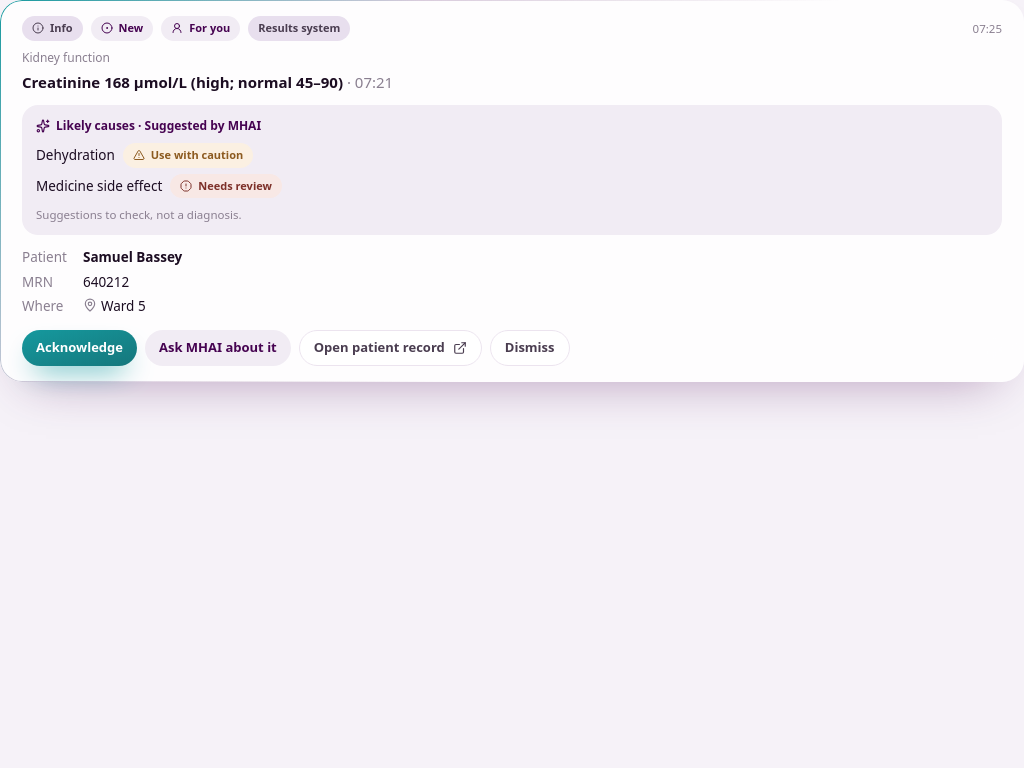
it: AlertCard › says in the dialog when someone else handled it meanwhile (Review Focus 1)
Click the button "Dismiss". click: (530, 348)
box: [490,330,570,366]
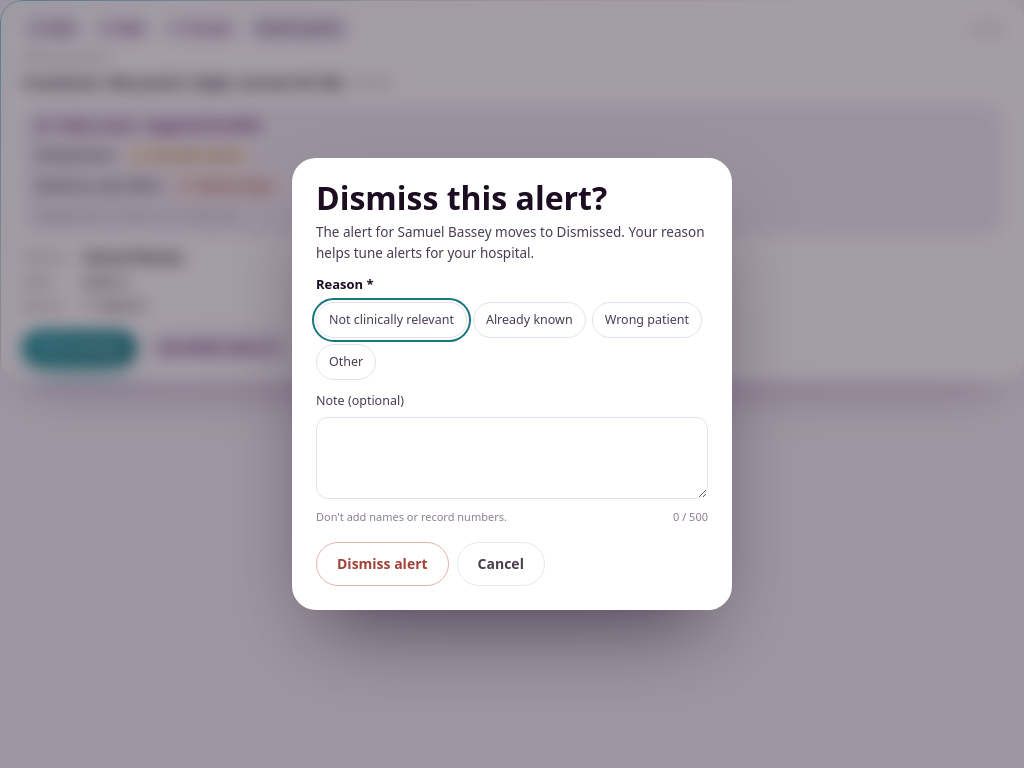
Click the radio button labelled "Wrong patient". click: (647, 320)
box: [592,302,702,338]
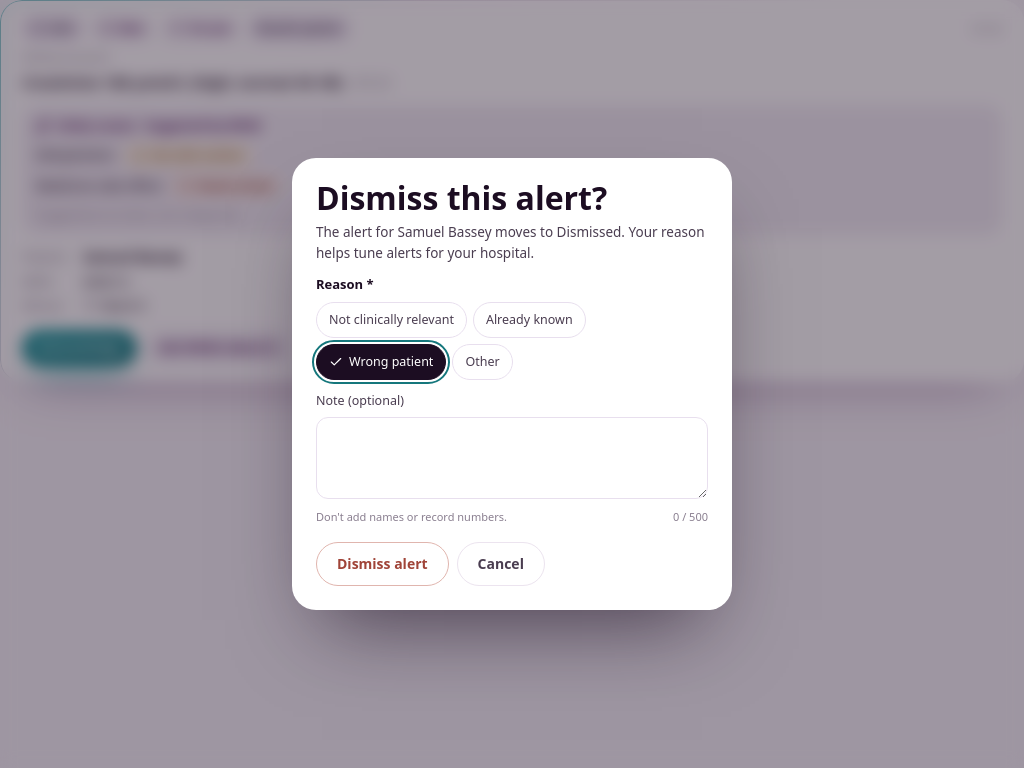
Click the button "Dismiss alert". click: (382, 564)
box: [316,542,449,586]
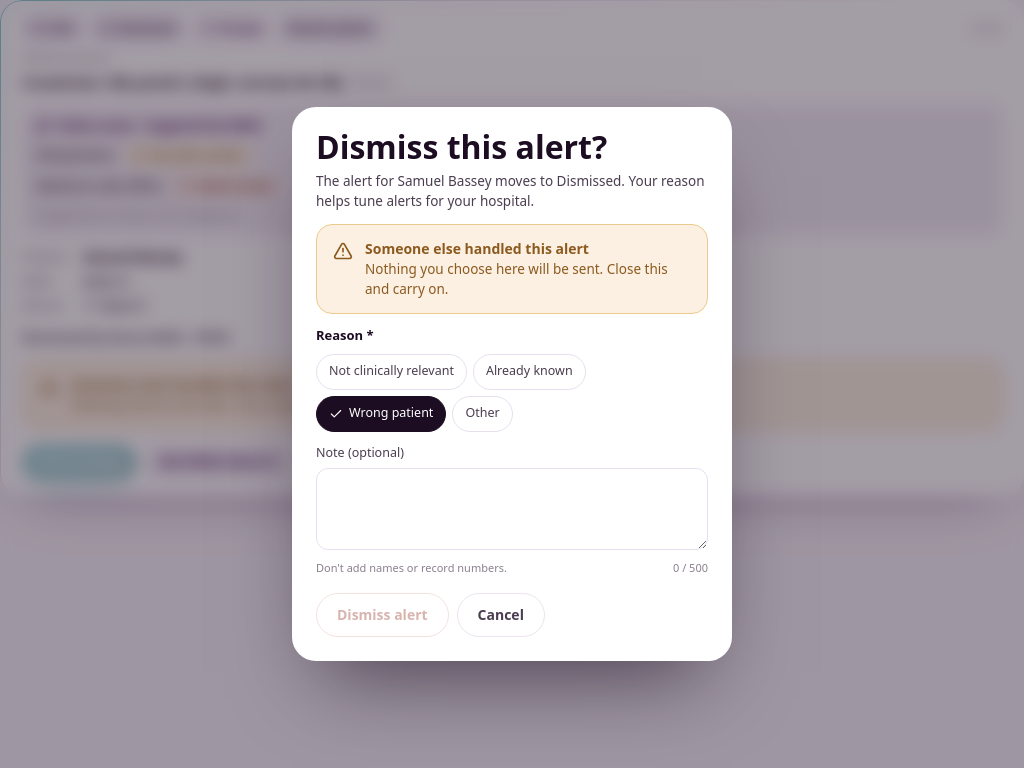
Expected: the text "Someone else handled this alert" is shown, [365,239,589,258]
Expected: the text "Nothing you choose here will be sent" is shown, [365,260,668,298]
Expected: the button "Dismiss alert" is disabled, [316,593,449,637]
